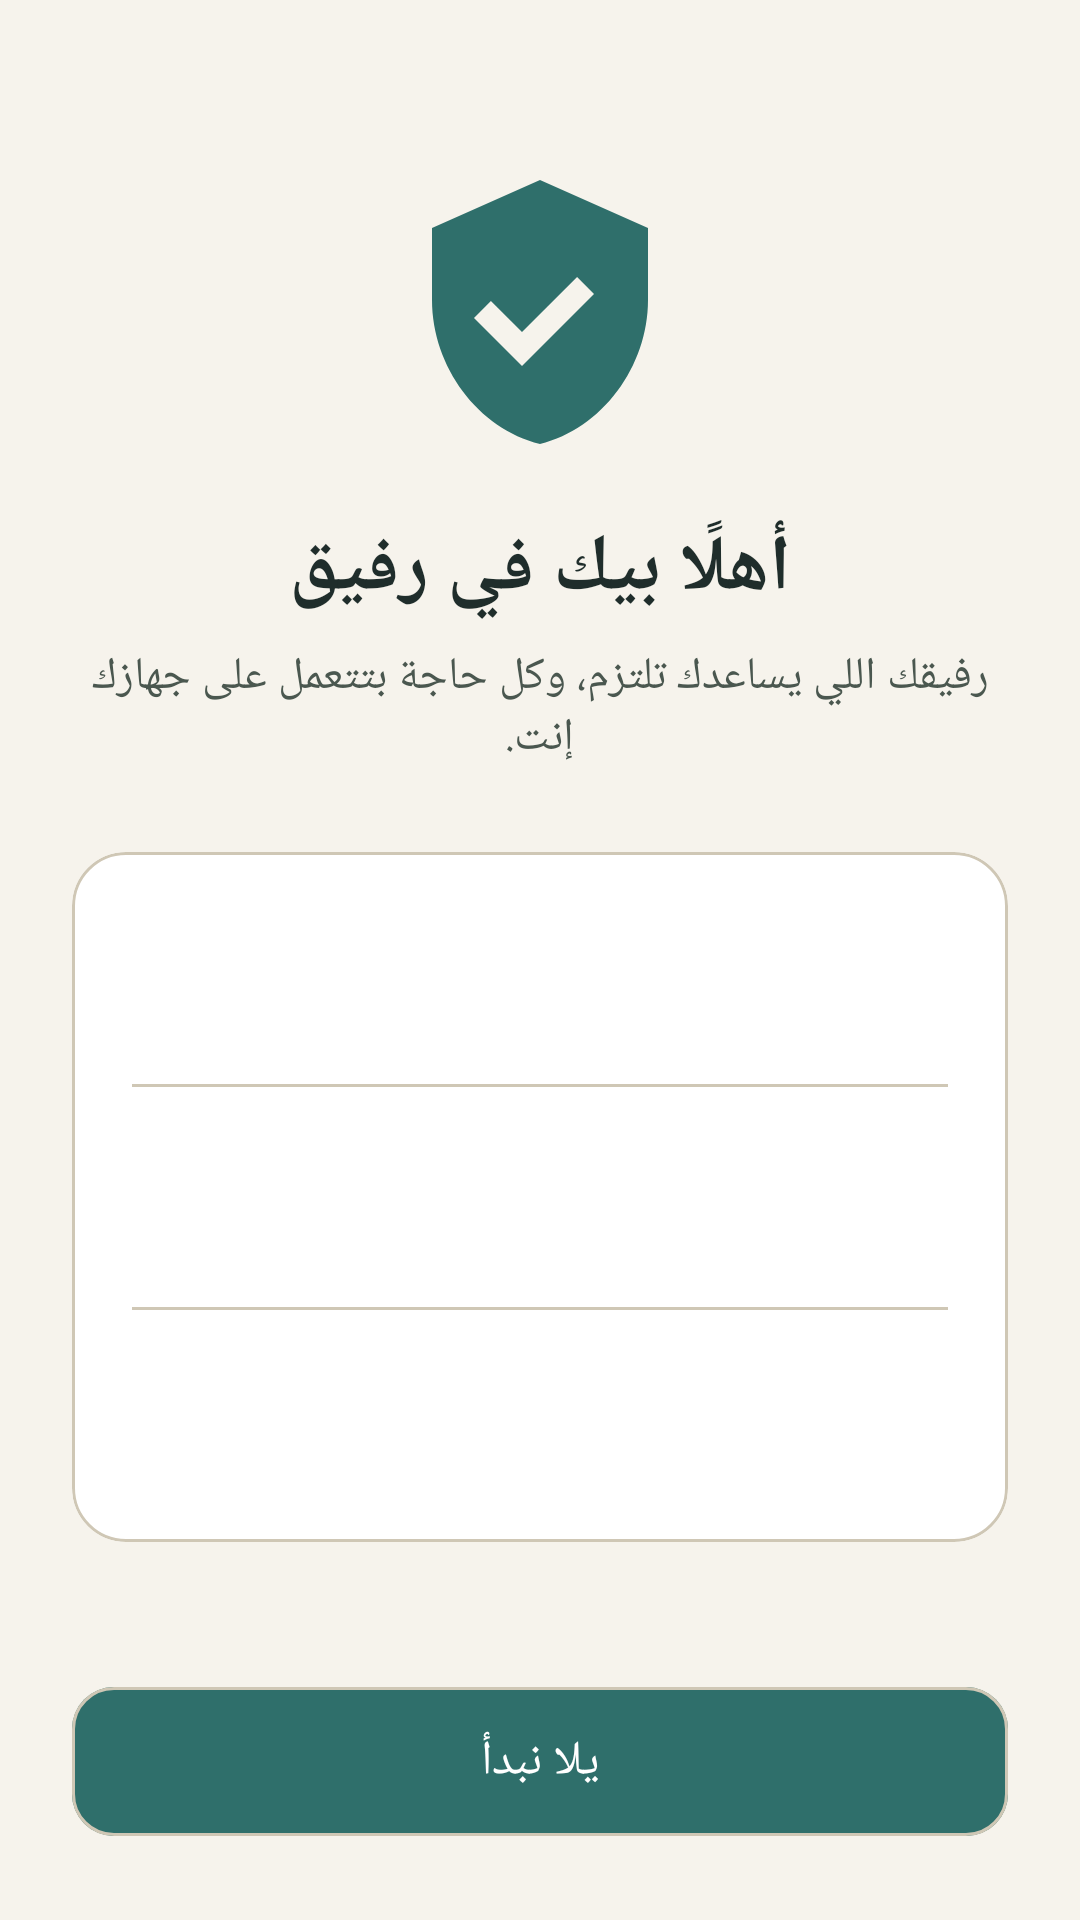

Icon bounding boxes for this 1080px x 1920px phone screenshot, format Rect(x1, y1, x2, y2):
شعار رفيق: Rect(432, 180, 648, 444)
